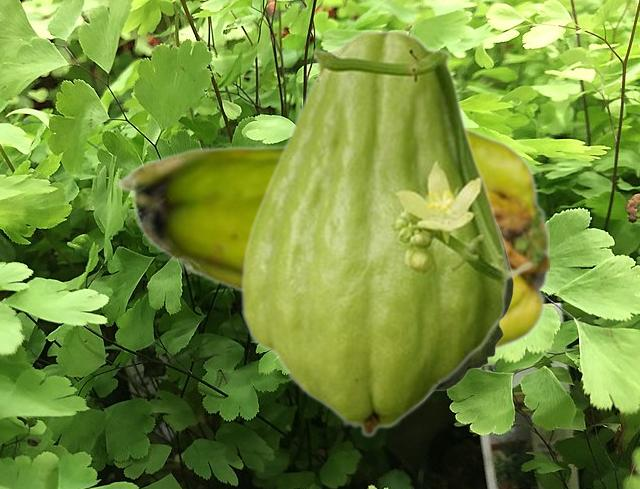sayote: (239, 29, 534, 437), (115, 123, 548, 352), (435, 243, 513, 391)
